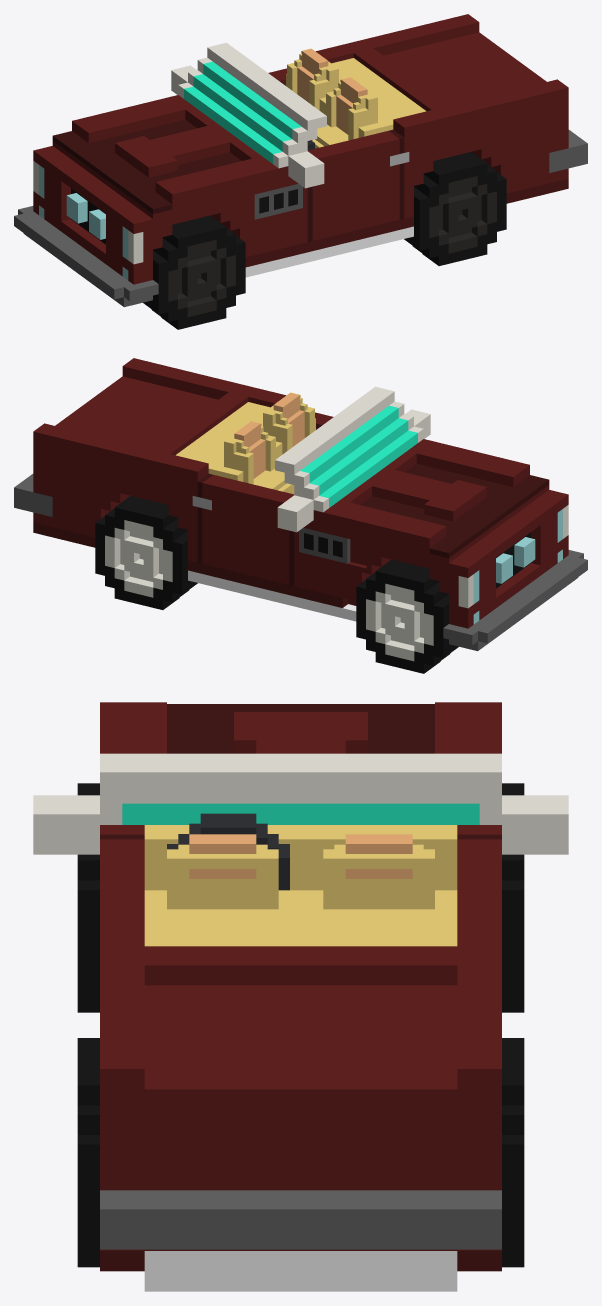
File: redclassiccar-len2.glb
The picture shows the model from 3 angles, top to bottom: view 1: azimuth 30°, elevation 25°; view 2: azimuth 150°, elevation 25°; view 3: azimuth 270°, elevation 25°; orthographic projection. The views are drawn at different scales.
Visible parts, largest first — view 1: _0; view 2: _0; view 3: _0.
Part boxes in pixels (x1,y1,x2,y2): _0: [14, 14, 587, 329]; _0: [14, 358, 587, 673]; _0: [33, 702, 568, 1291].
Bounding box in the file's own units: 0.147 × 0.051 × 0.072.
